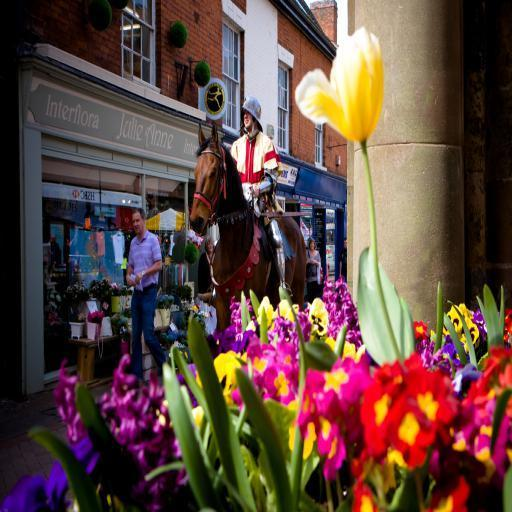horse: (190, 118, 310, 352)
